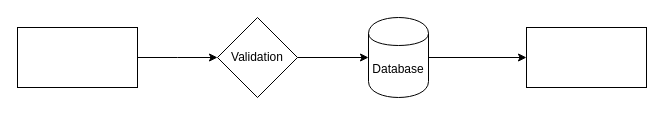
The diagram is 664 pixels wide and 115 high, and some of its shapes have lost their labels. The shapes that lost their labels are listed below. From the top down, each one's centre as x and y in pixels, then its label:
[77,57]: None Admin Employee List
[586,57]: Admin List Employee
